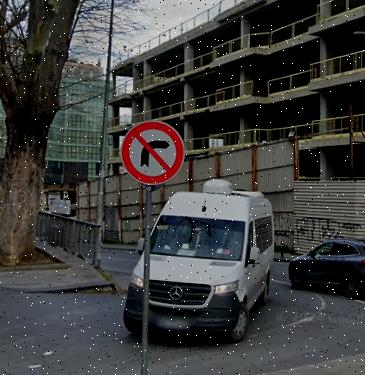rightturnsareforbidden: (125, 120, 179, 181)
